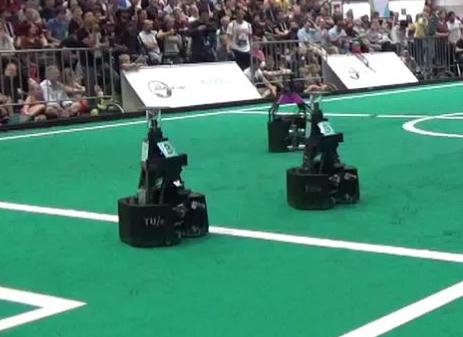robot: (115, 104, 211, 247), (285, 91, 365, 213)
